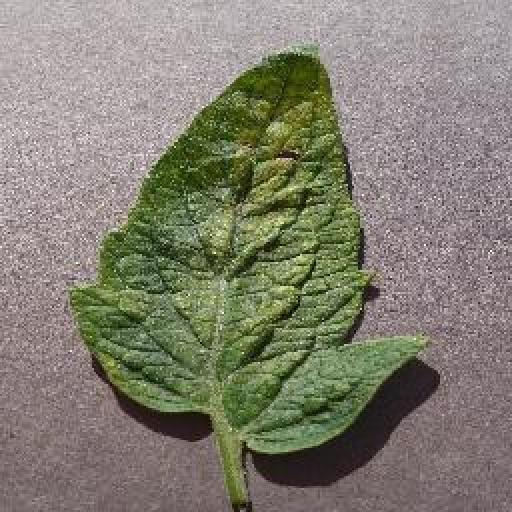disease_tomato: (68, 44, 427, 453)
